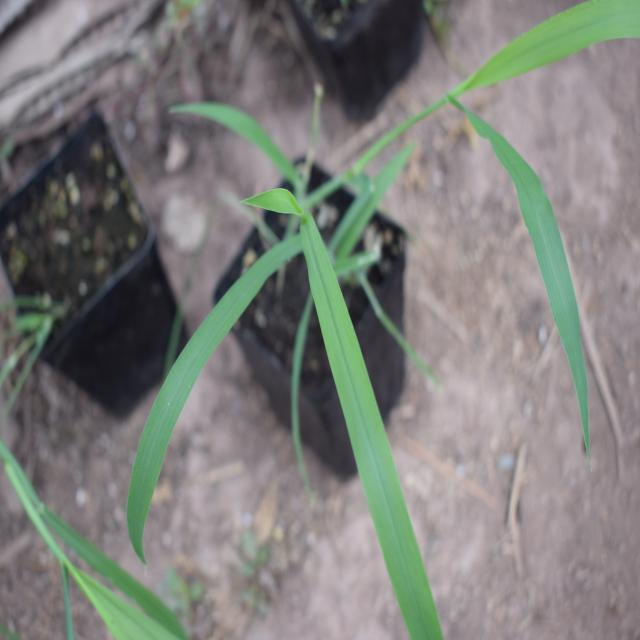crabgrass: (104, 136, 448, 616)
